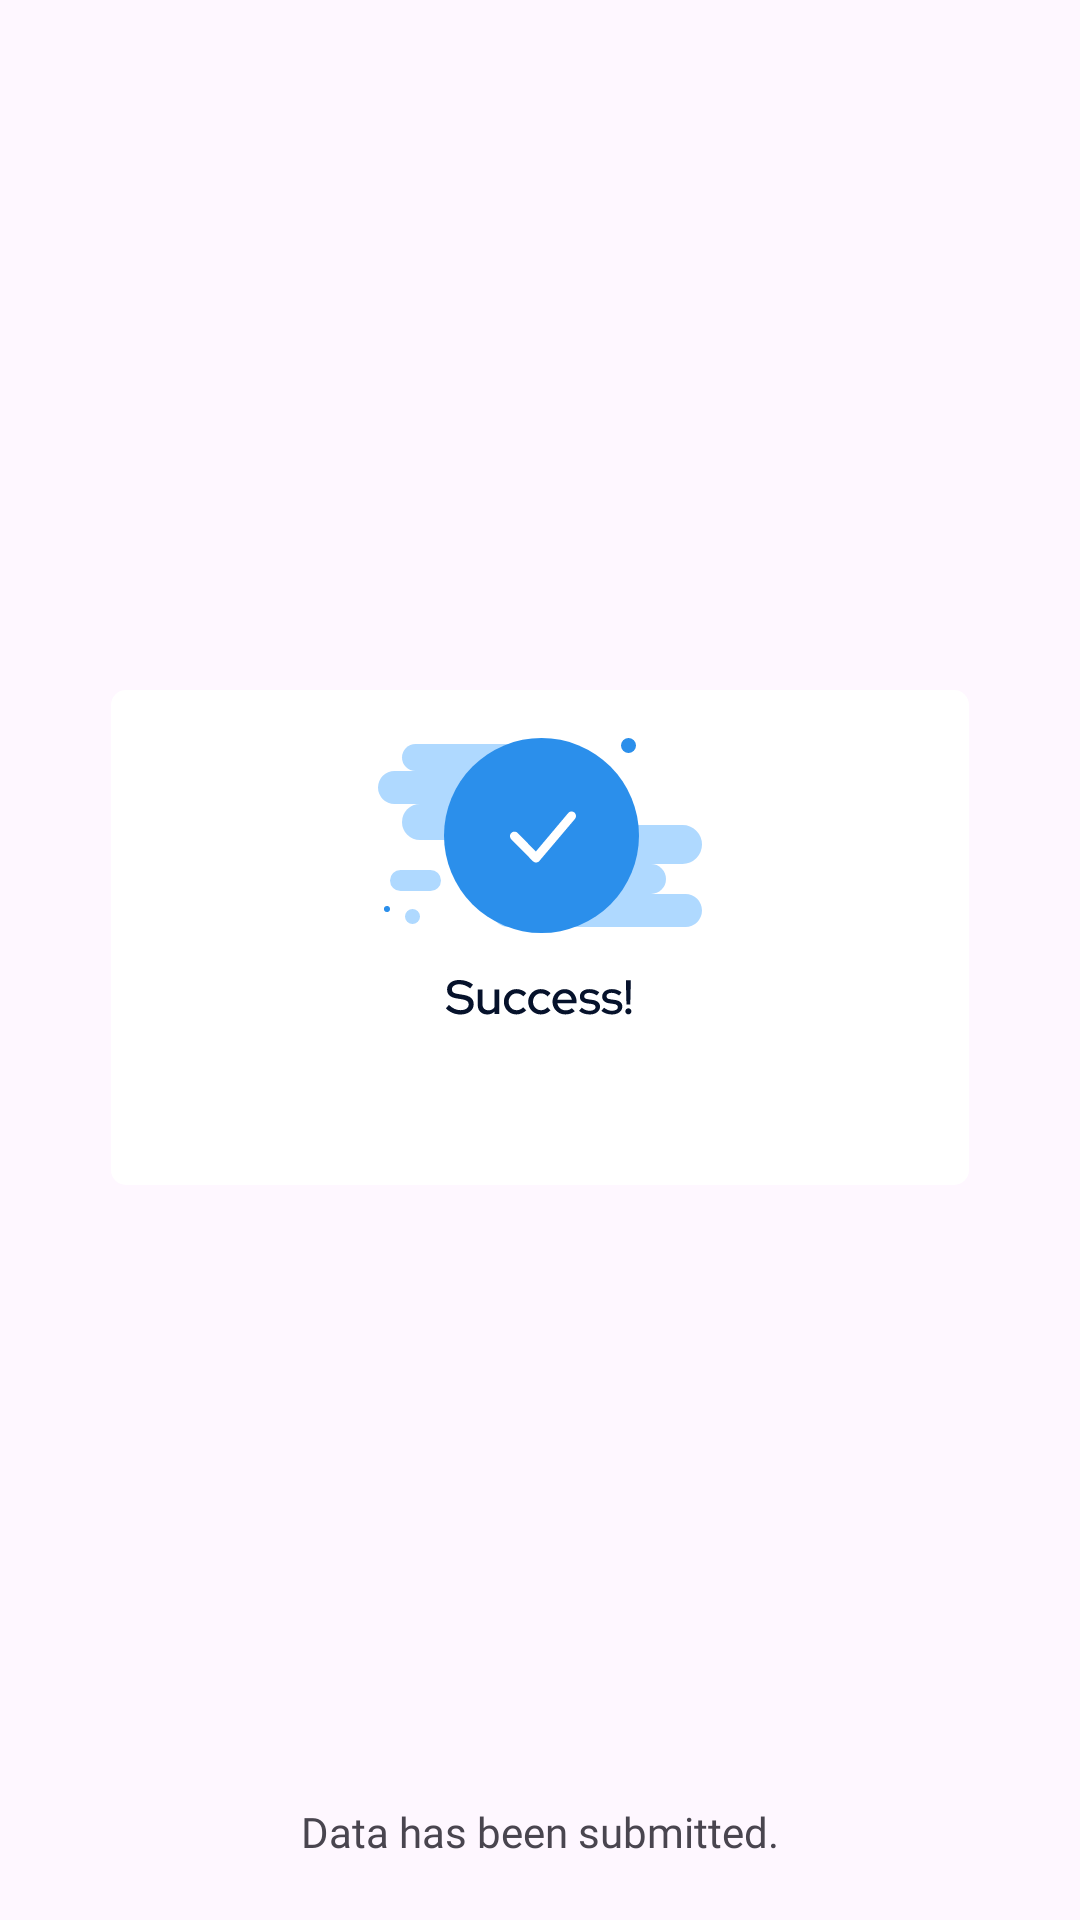

Where to tap for icons on this 1080x1920 app screen, as (x=x, y=y):
data successfully stored: (x=540, y=876)
